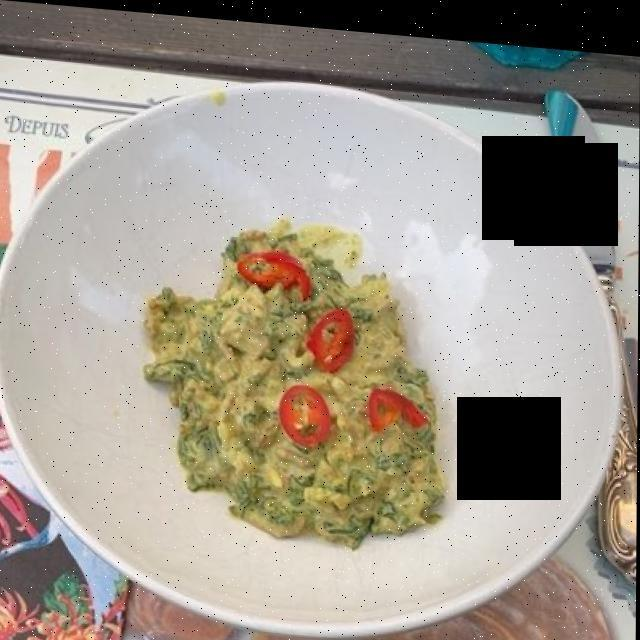curry-vegetarian: (149, 219, 434, 538)
